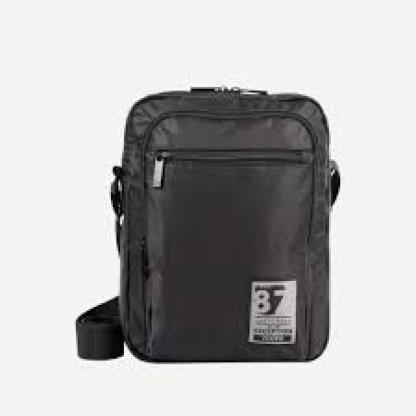morral: (65, 68, 364, 383)
